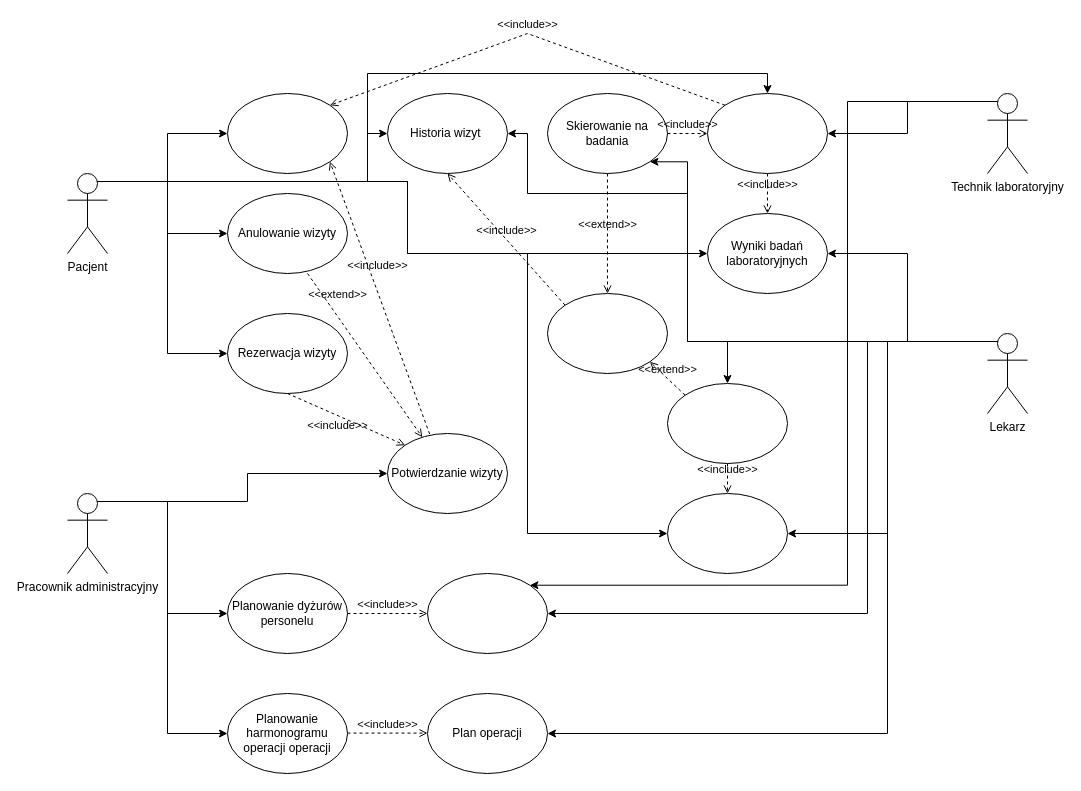
This 1081x791 diagram has some shape labels left out. The shapes that lost their labels are listed below. From the top down, each one's centre as x and y in pixels, then its label:
At pixel 287 133: "System płatności".
At pixel 767 133: "Wykonanie badań laboratoryjnych".
At pixel 607 333: "Wizyta".
At pixel 727 423: "Wystawienie recepty".
At pixel 727 533: "Historia recept".
At pixel 487 613: "Plan personelu".
